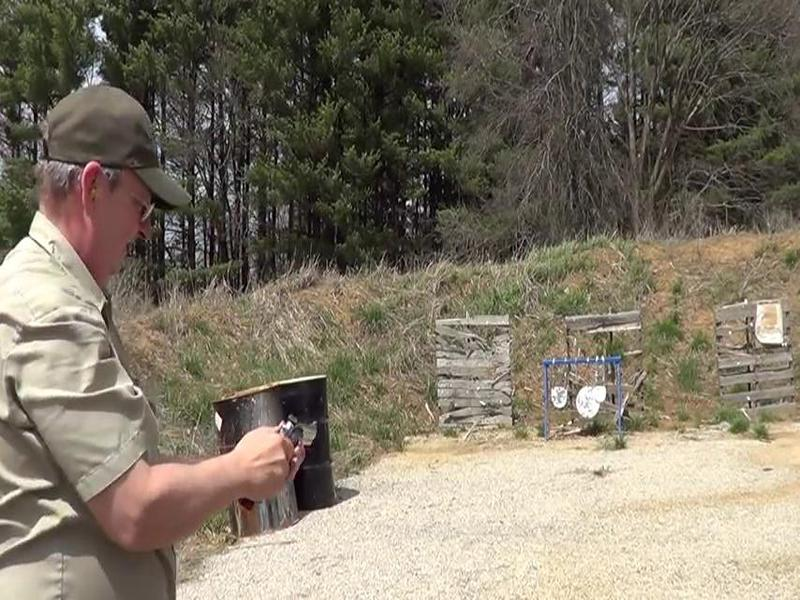Revolver: (250, 407, 327, 480)
